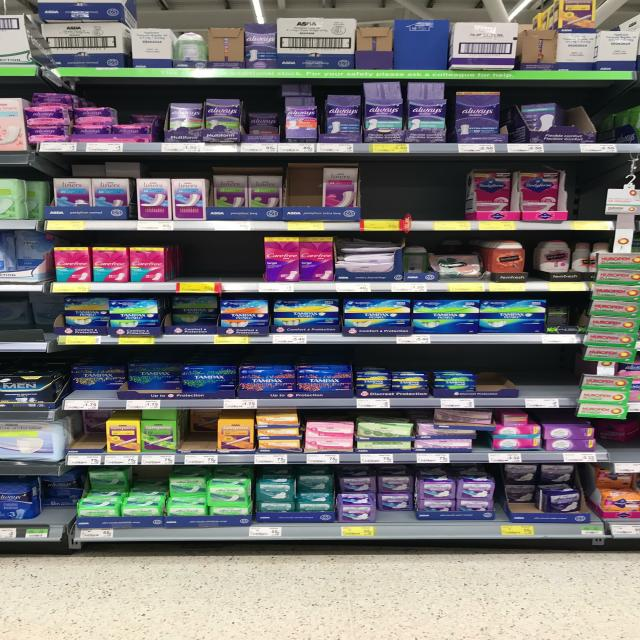void: (573, 159, 637, 231), (364, 161, 414, 231), (523, 344, 577, 408), (417, 161, 464, 230), (172, 232, 218, 292), (597, 88, 637, 154), (220, 230, 261, 291)
